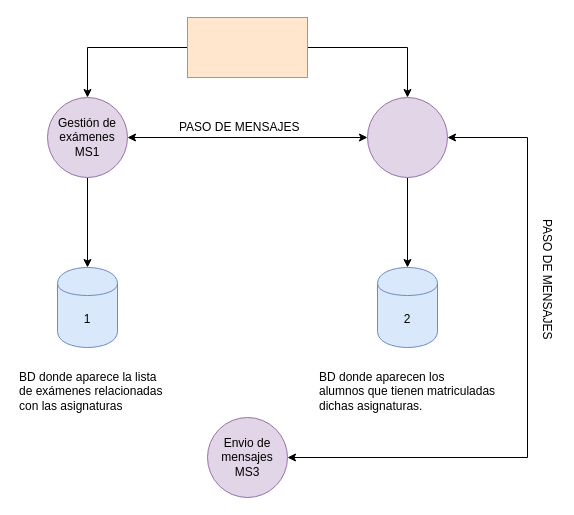
This 574x515 diagram has some shape labels left out. The shapes that lost their labels are listed below. From the top down, each one's box as (x1, y1, x2, y2) in pixels, then its label:
(186, 16, 308, 78): Gateway
(366, 96, 448, 178): Gestión de alumnos MS2
